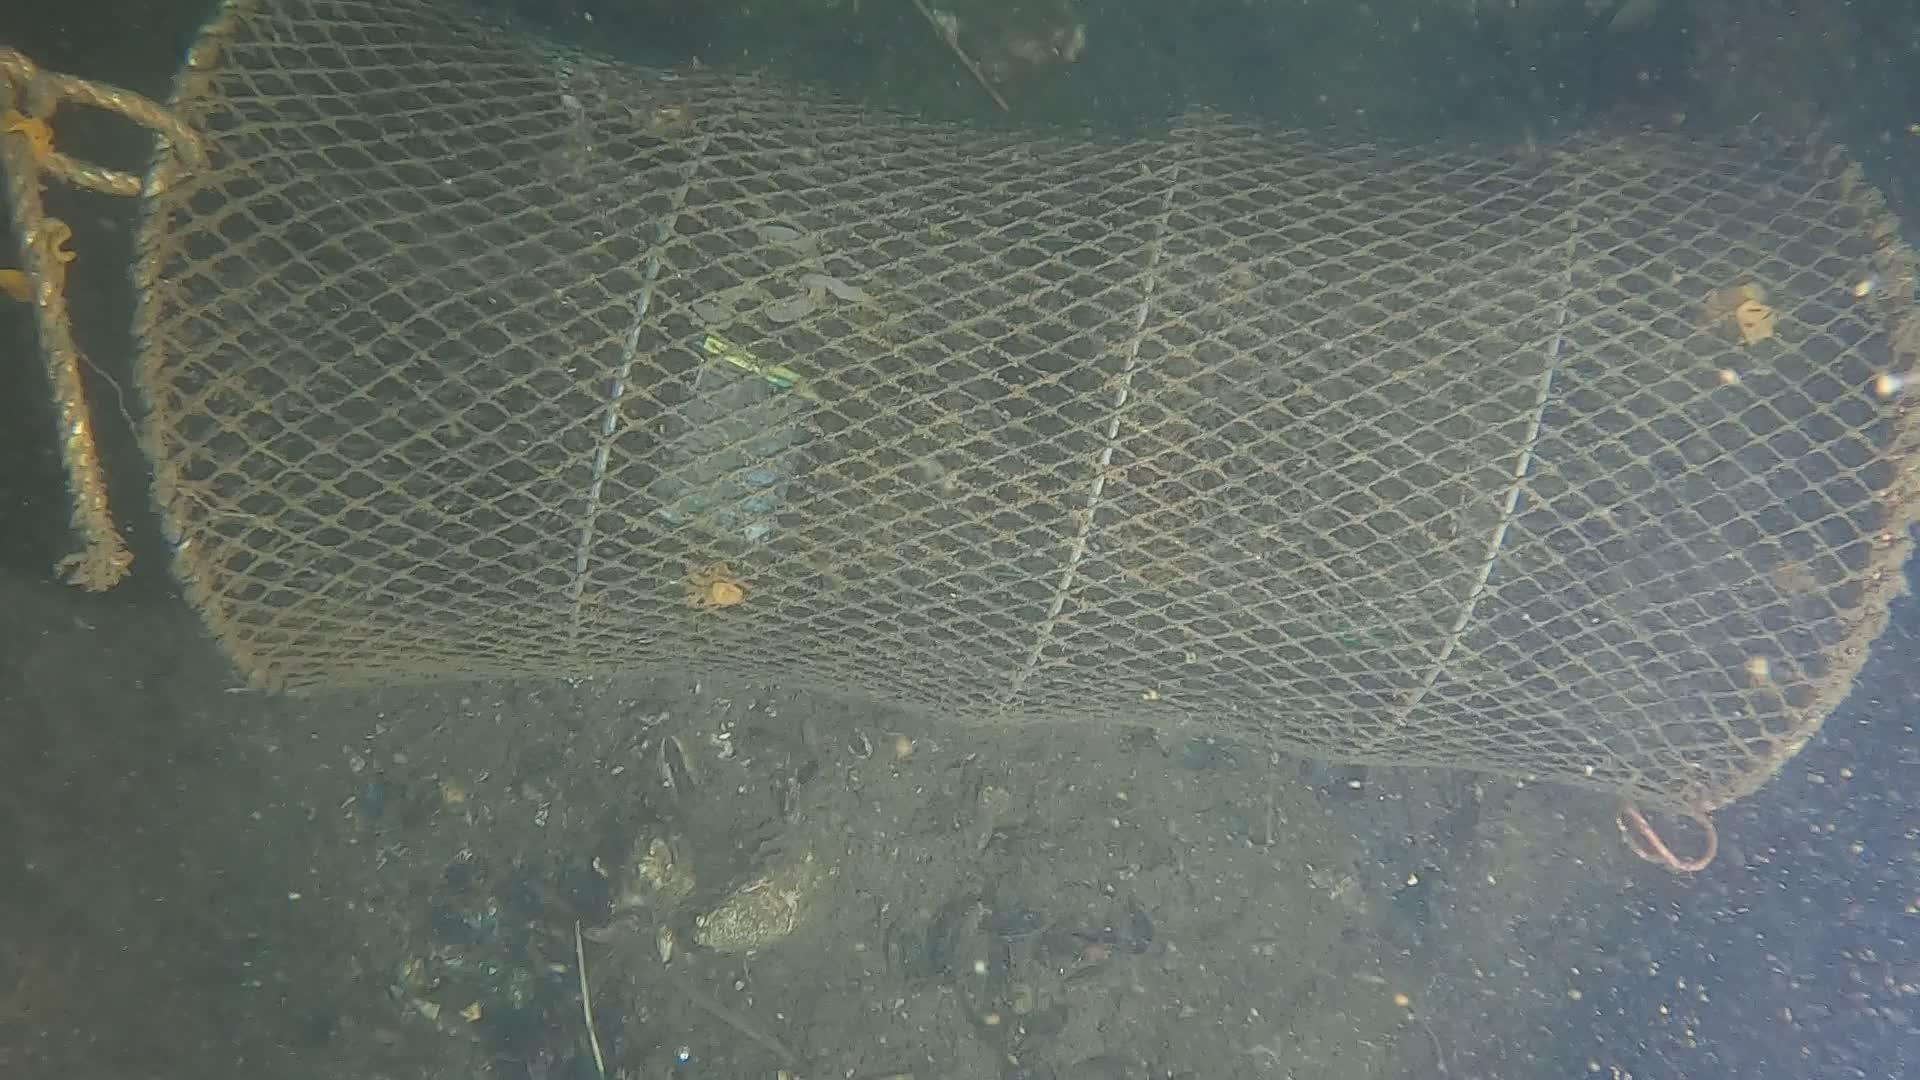bundle of ropes: (0, 0, 204, 589)
spring fish trap: (129, 9, 1920, 829)
